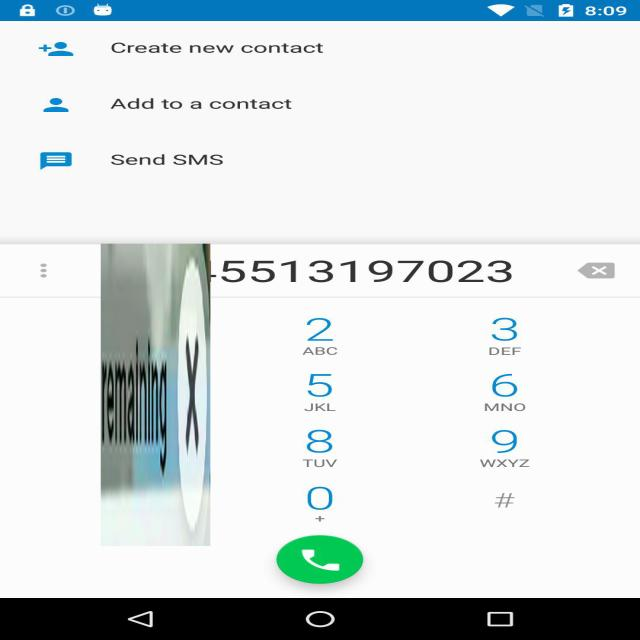misdirection: (101, 244, 210, 546)
